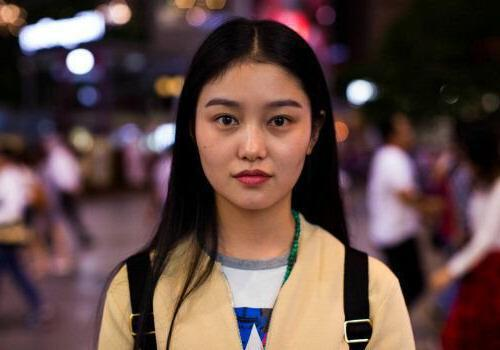Sober: (200, 72, 307, 201)
